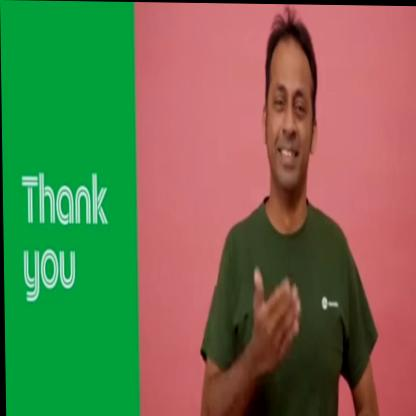ThankYou: (192, 2, 381, 416)
